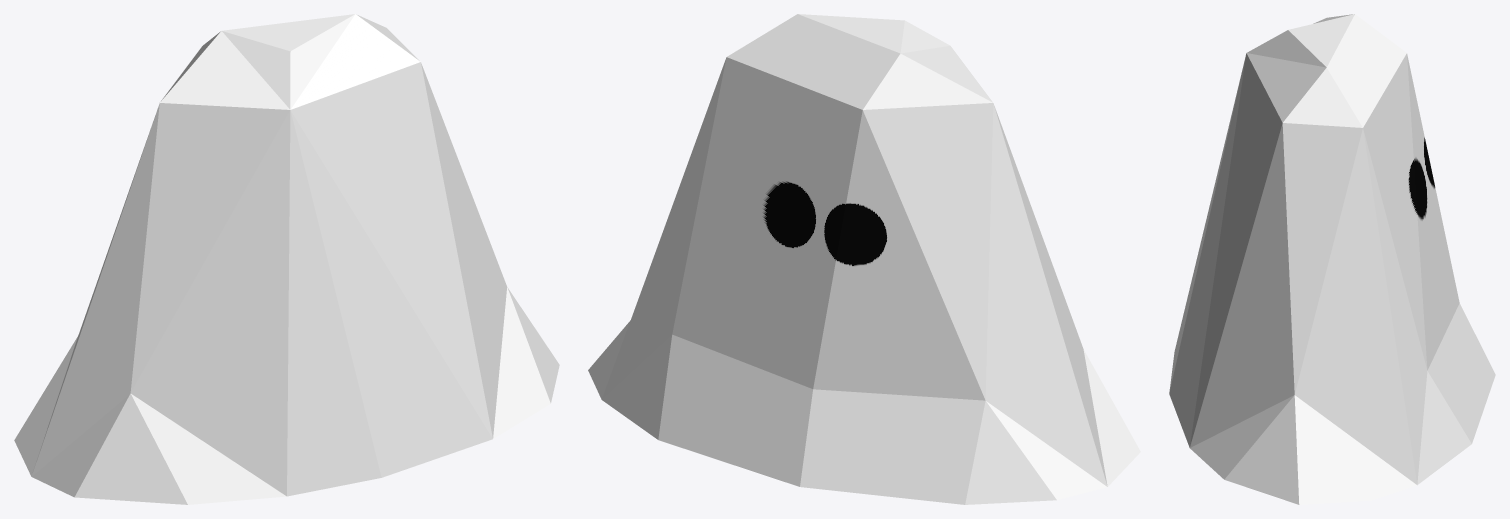
The model's file is Ghost.obj.
3 renders of one model, left to right at view 1: azimuth 30°, elevation 25°; view 2: azimuth 150°, elevation 25°; view 3: azimuth 270°, elevation 25°, orthographic. The views are drawn at different scales.
Parts seen in each view (by area): view 1: 円柱; view 2: 円柱; view 3: 円柱.
Part boxes in pixels (x1,y1,x2,y2): 円柱: [14, 14, 559, 504]; 円柱: [588, 14, 1140, 504]; 円柱: [1169, 14, 1495, 504].
Bounding box in the file's own units: 2.56 × 1.89 × 1.56.
